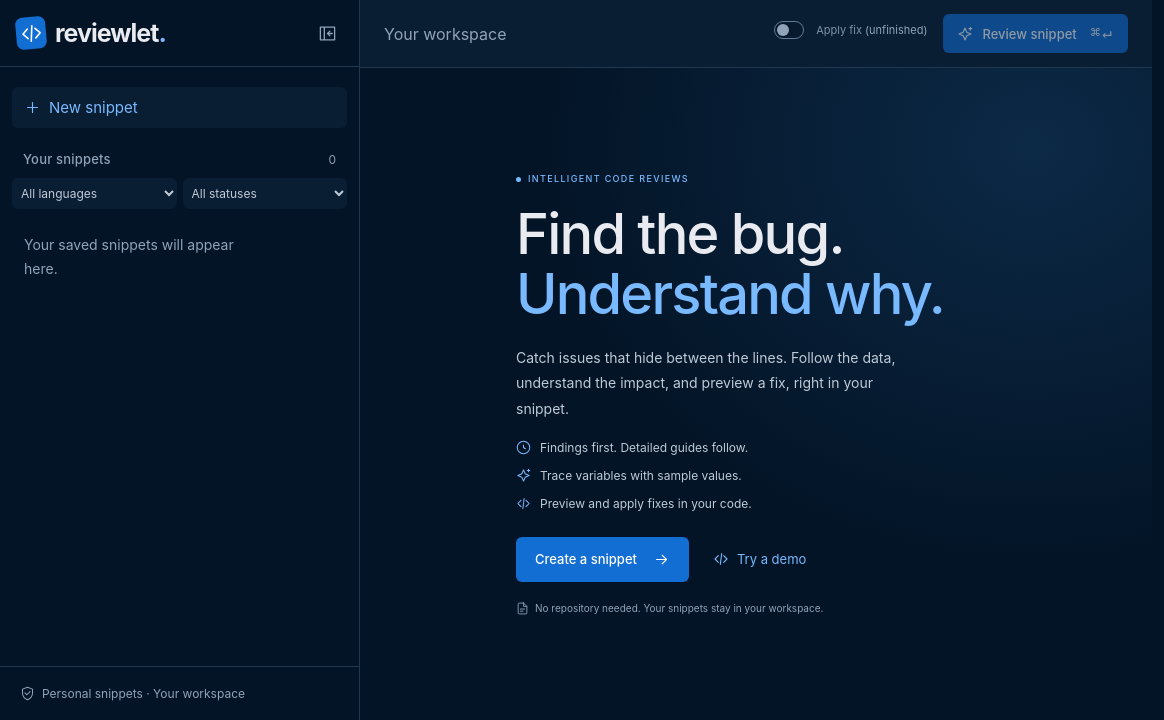
snippet editor workspace › welcomes an empty library after loading and creates the first snippet
This screenshot has width=1164, height=720.
Check: the heading "Find the bug.Understand why." is shown, box 516,205 -> 996,325
What coordinates should you click on to do the following:
click the button "Create a snippet"
I would click on:
 (602, 559)
Its box is 516,537 -> 689,582.
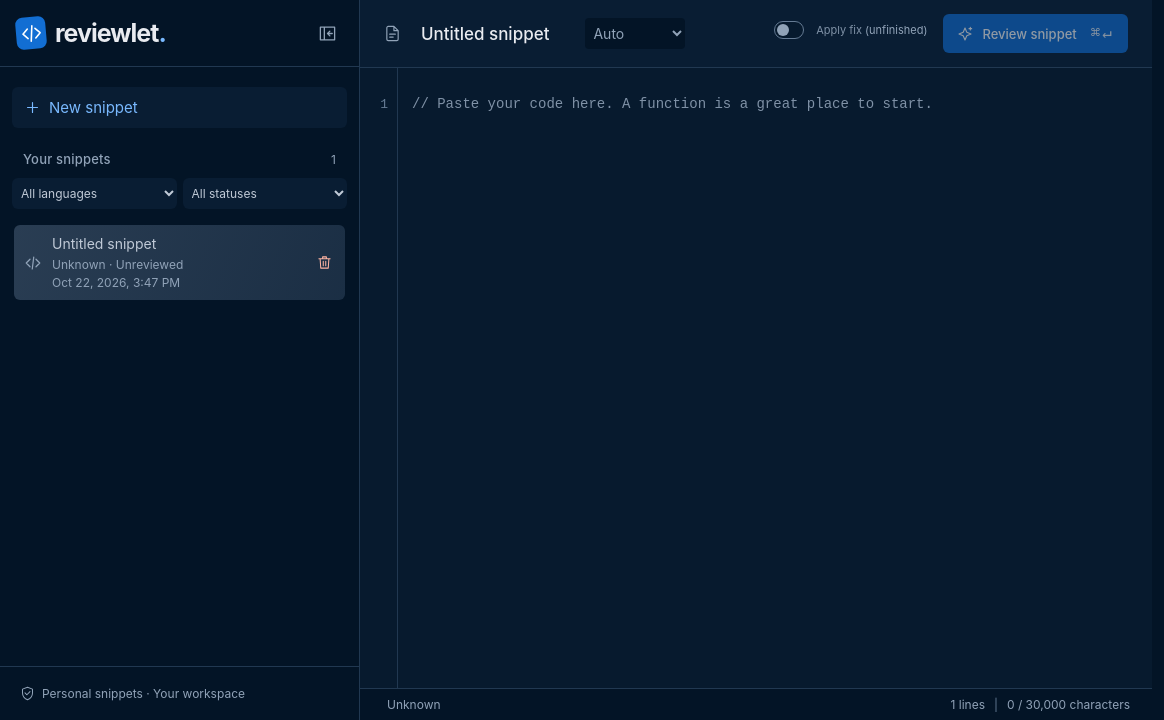
Check: the text "Understand why" is gone
Check: the text box named "Code snippet" is empty, box 398,68 -> 1152,688
Check: the button "Untitled snippet" is shown, box 14,225 -> 345,300
